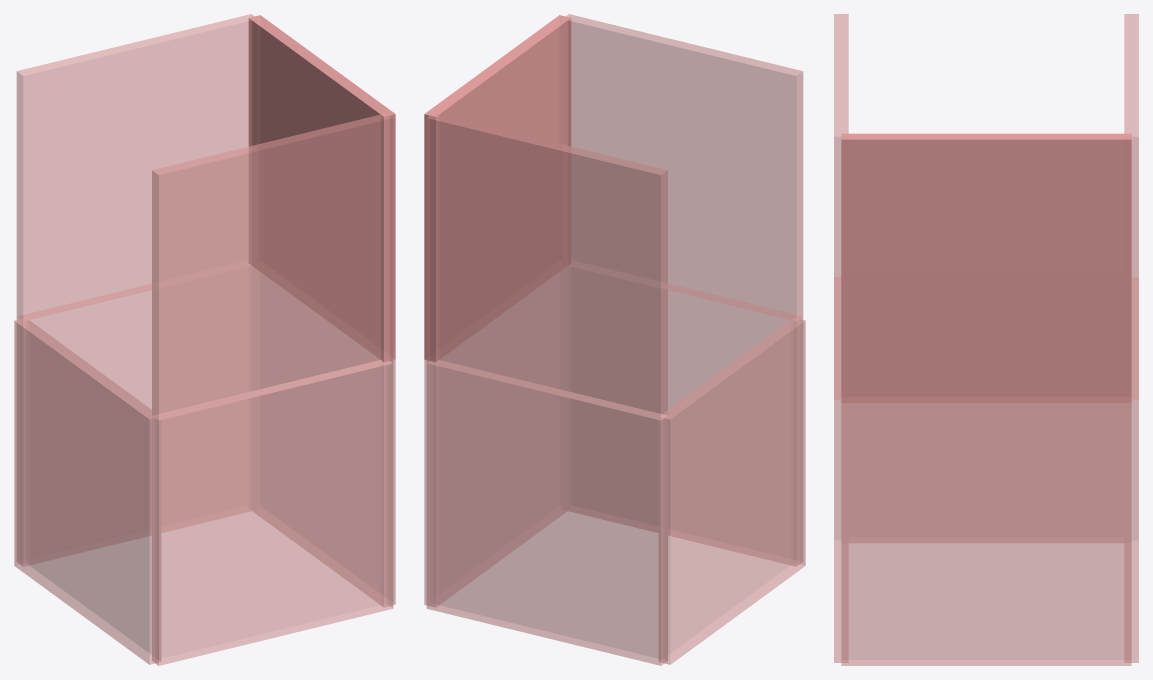
File: torre_step8.glb
The picture shows the model from 3 angles, left to right: view 1: azimuth 30°, elevation 25°; view 2: azimuth 150°, elevation 25°; view 3: azimuth 270°, elevation 25°; orthographic projection. The views are drawn at different scales.
Visible parts, largest first — view 1: qN.001, qN, qS.001, qS, qE.001, qW, qE; view 2: qS.001, qS, qN.001, qN, qE.001, qW, qE; view 3: qE.001, qE, qW, qN, qS, qN.001, qS.001.
Boxes of the visible parts, x1,y1,x2,y2 form: qN.001: (152,114,393,420); qN: (152,360,393,665); qS.001: (16,14,256,321); qS: (16,267,251,566); qE.001: (248,15,395,362); qW: (14,318,160,664); qE: (253,271,395,607); qS.001: (426,114,667,420); qS: (426,360,667,665); qN.001: (563,14,803,321); qN: (568,267,803,566); qE.001: (424,15,571,362); qW: (659,318,805,664); qE: (424,271,566,607); qE.001: (841,133,1131,402); qE: (841,403,1131,665); qW: (849,403,1123,542); qN: (834,277,848,662); qS: (1124,277,1138,662); qN.001: (834,14,848,399); qS.001: (1124,14,1138,399).
Bounding box in the file's own units: 1.05 × 2 × 1.05.
